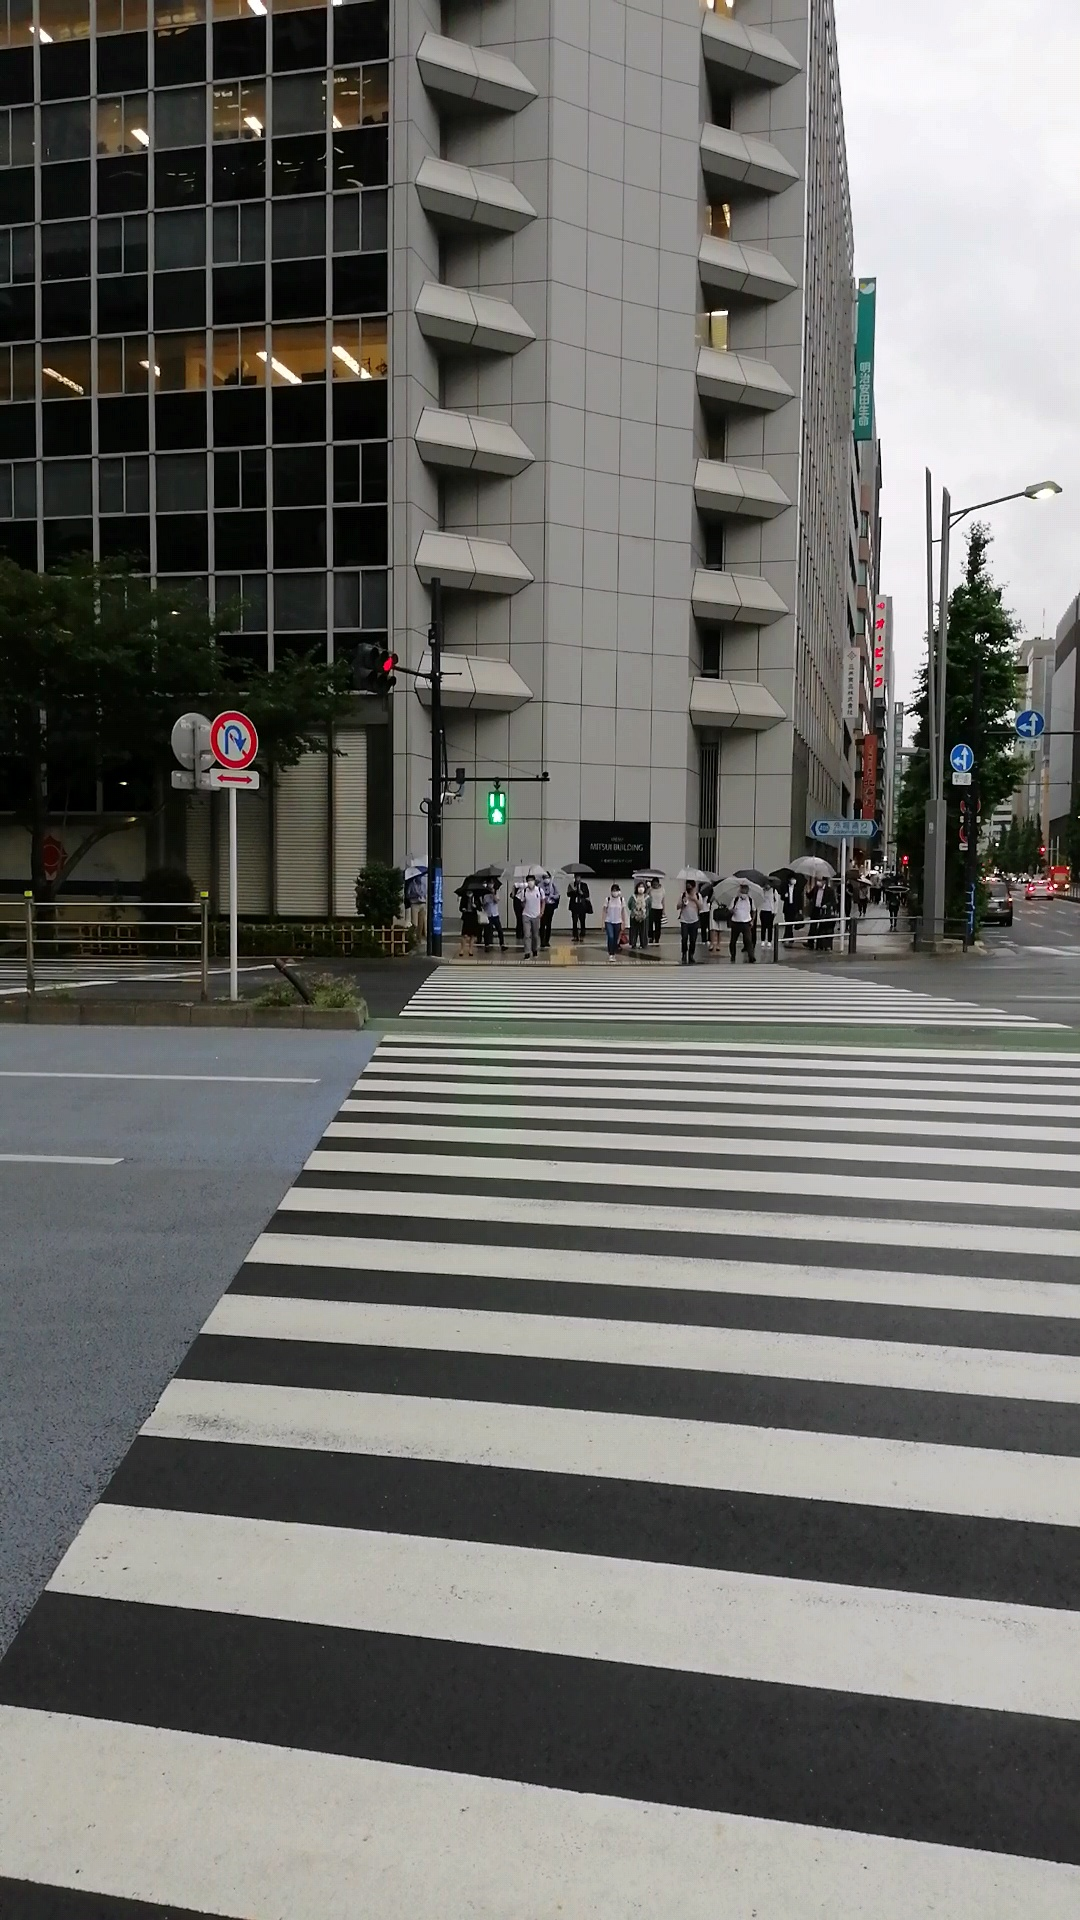green: (487, 789, 506, 825)
